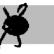not correct: (0, 2, 33, 48)
